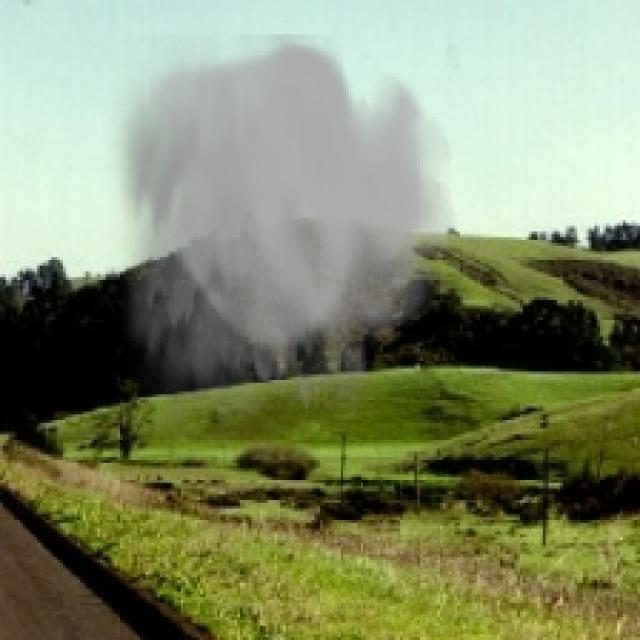smoke: (100, 34, 457, 460)
